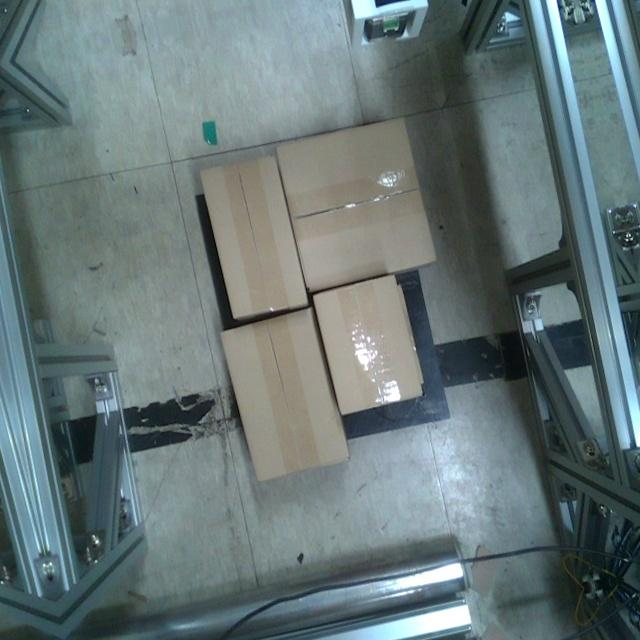box: (272, 114, 442, 295), (214, 302, 354, 486), (196, 150, 312, 324), (311, 272, 429, 418)
